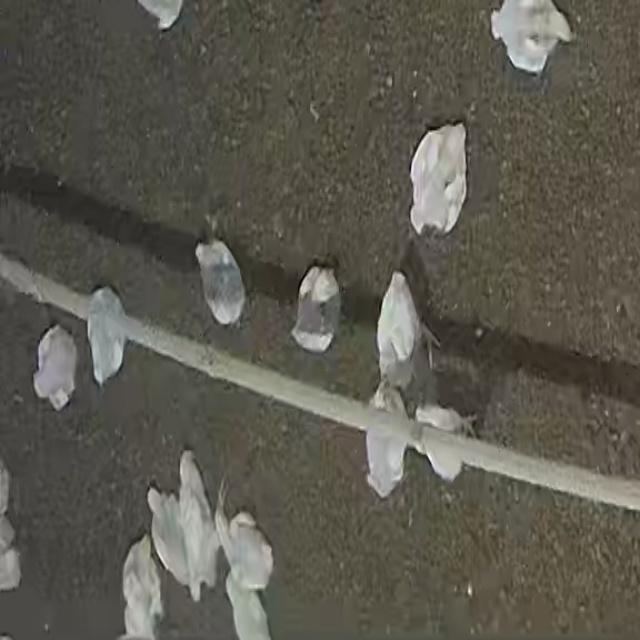chicken: (374, 274, 443, 394), (408, 120, 468, 238), (192, 237, 250, 329), (289, 263, 343, 355), (85, 279, 129, 389), (34, 321, 78, 409)
